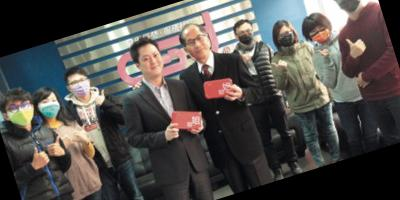with_mask: (5, 97, 39, 130), (36, 93, 65, 123), (68, 75, 93, 100), (275, 27, 299, 51), (311, 22, 334, 46), (237, 26, 257, 48)
without_mask: (137, 48, 170, 81), (184, 31, 212, 60)
